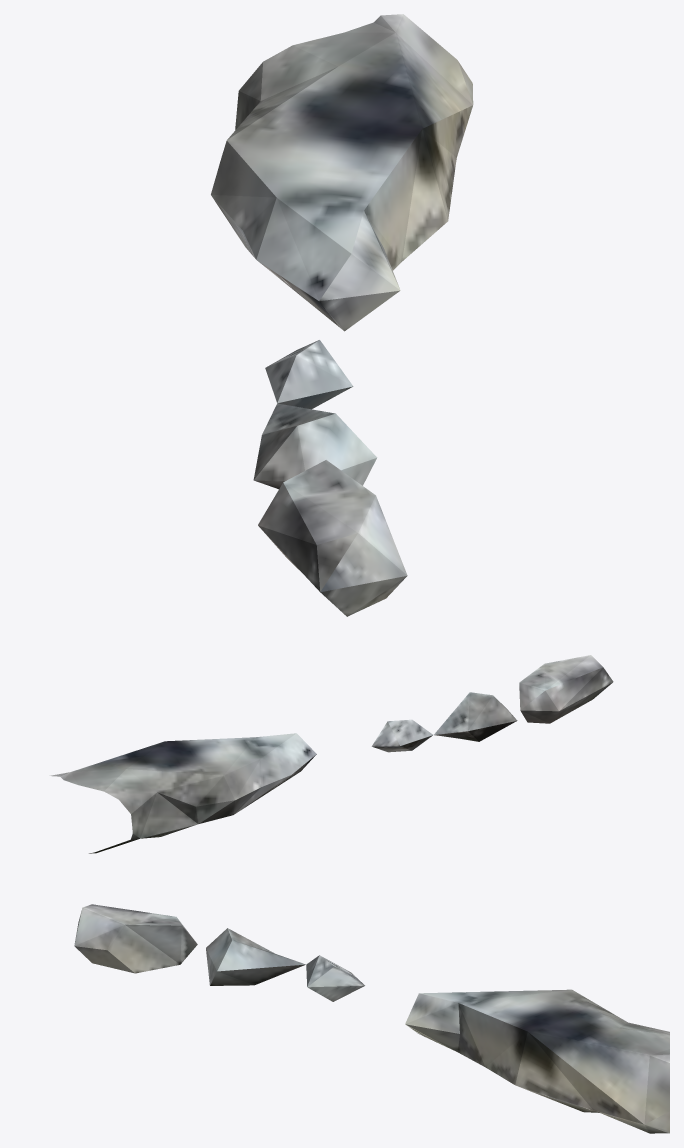
3 views of the same model, one above another, from view 1: azimuth 30°, elevation 25°; view 2: azimuth 150°, elevation 25°; view 3: azimuth 270°, elevation 25° (orthographic). The views are drawn at different scales.
Size of the model in its own units: 0.3817 by 0.0721 by 0.5245.
1 material, 1 textured.
